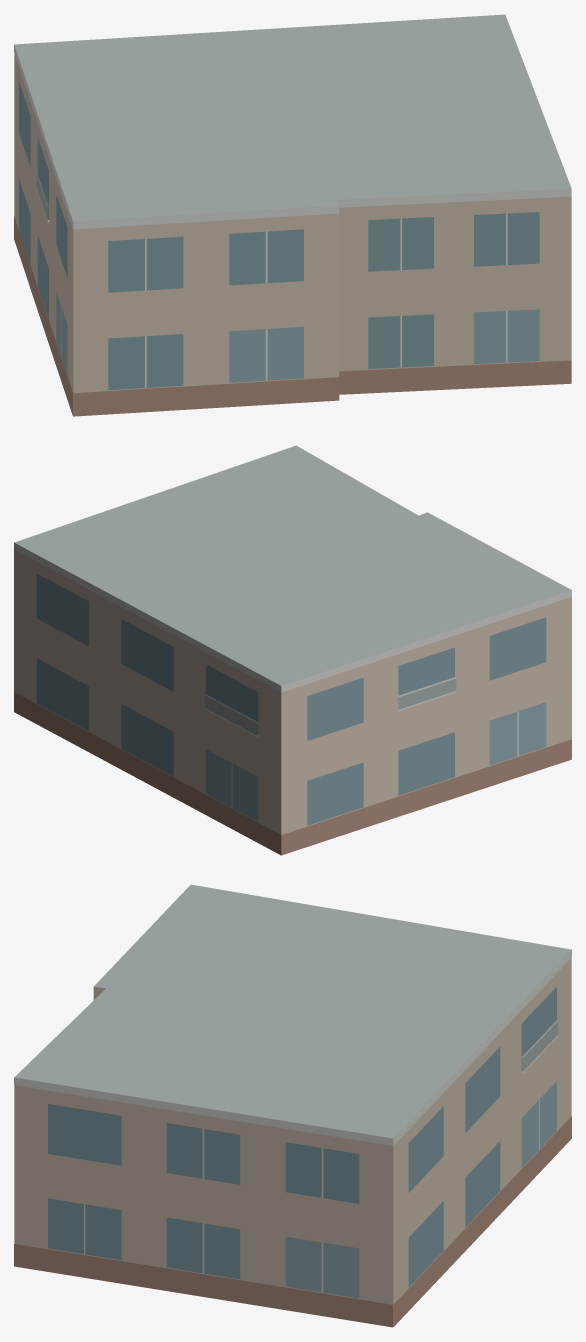
The model's file is survey-upis-32647545.glb.
3 views of the same model, one above another, from view 1: azimuth 30°, elevation 25°; view 2: azimuth 150°, elevation 25°; view 3: azimuth 270°, elevation 25° (orthographic). The views are drawn at different scales.
Visible parts, largest first — view 1: survey-upis-32647545.tmp; view 2: survey-upis-32647545.tmp; view 3: survey-upis-32647545.tmp.
Boxes of the visible parts, bbox=[...] form: survey-upis-32647545.tmp: bbox=[14, 14, 571, 416]; survey-upis-32647545.tmp: bbox=[14, 445, 571, 855]; survey-upis-32647545.tmp: bbox=[14, 884, 571, 1327].
Size of the model in its own units: 17.59 by 6.1 by 16.33.
